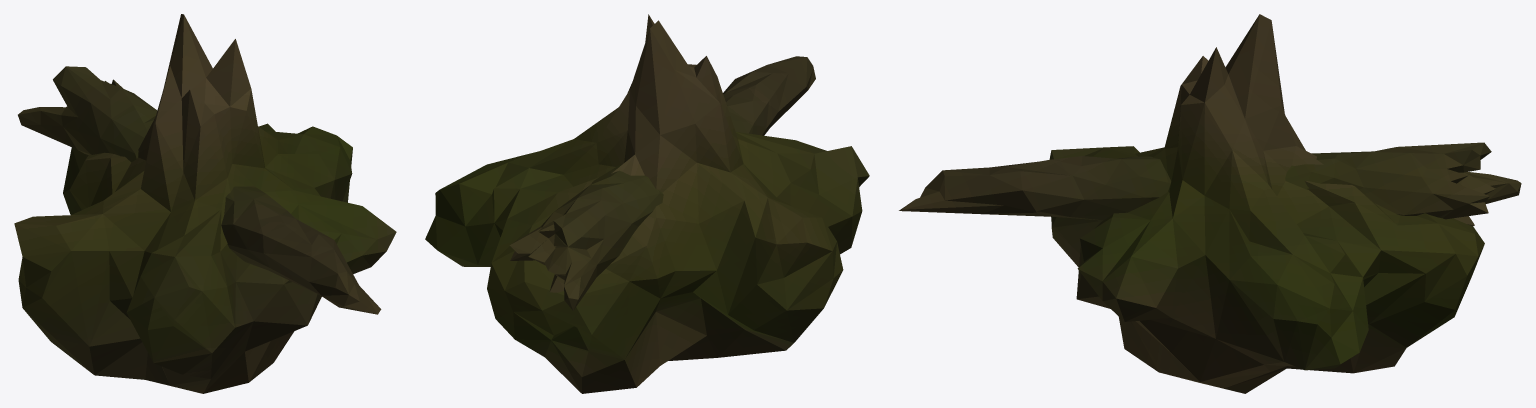
File: TreeStump_01.fbx
The picture shows the model from 3 angles, left to right: view 1: azimuth 30°, elevation 25°; view 2: azimuth 150°, elevation 25°; view 3: azimuth 270°, elevation 25°; orthographic projection. The views are drawn at different scales.
Parts seen in each view (by area): view 1: TreeStump__01_a, TreeStump_01_b; view 2: TreeStump__01_a, TreeStump_01_b; view 3: TreeStump__01_a, TreeStump_01_b.
Part boxes in pixels (<box>): TreeStump__01_a: <box>14,14,396,393</box>; TreeStump_01_b: <box>18,66,381,314</box>; TreeStump__01_a: <box>425,14,869,393</box>; TreeStump_01_b: <box>509,56,815,310</box>; TreeStump__01_a: <box>1049,14,1484,393</box>; TreeStump_01_b: <box>899,142,1521,225</box>.
Size of the model in its own units: 378 by 351 by 536.
